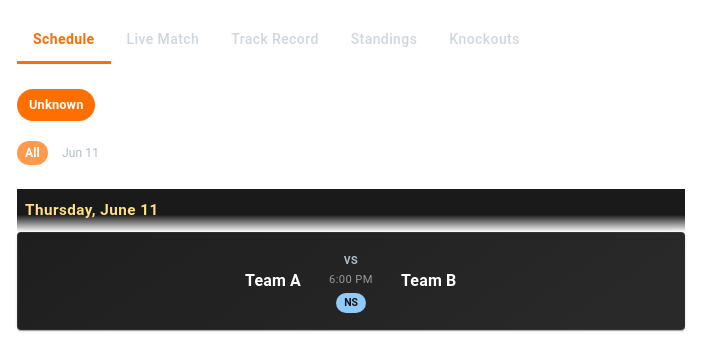
WorldCup2026Layout › clicking Track Record tab renders track record content
Click the tab with test id "tab-track-record" at (275, 40), box [215,16,335,64]
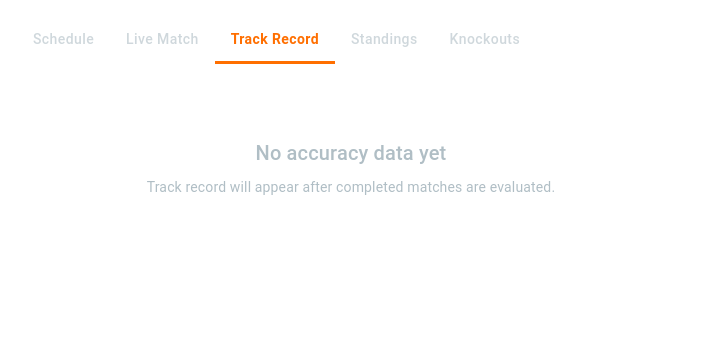
Result: the element with test id "empty-state" is shown at [147,141,555,195]
Result: the heading "No accuracy data yet" is shown at [256,141,446,165]
